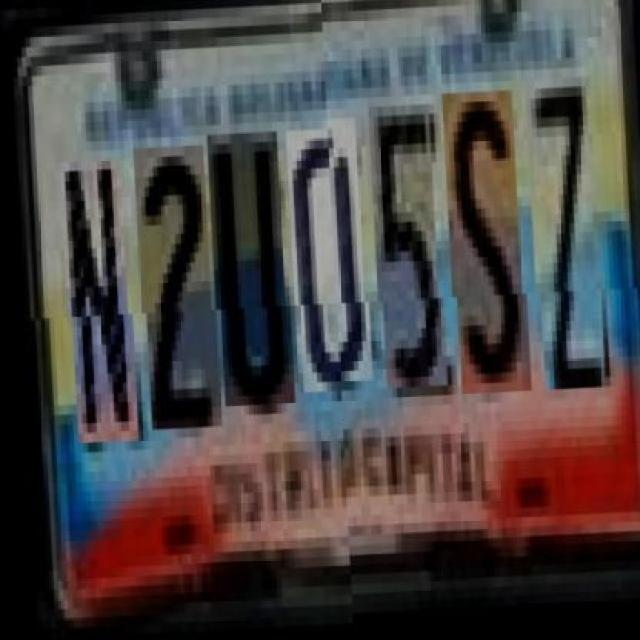0: (289, 132, 369, 396)
2: (136, 147, 216, 431)
5: (371, 120, 444, 402)
n: (62, 161, 135, 444)
s: (446, 105, 528, 408)
u: (210, 134, 292, 408)
z: (528, 92, 602, 406)
